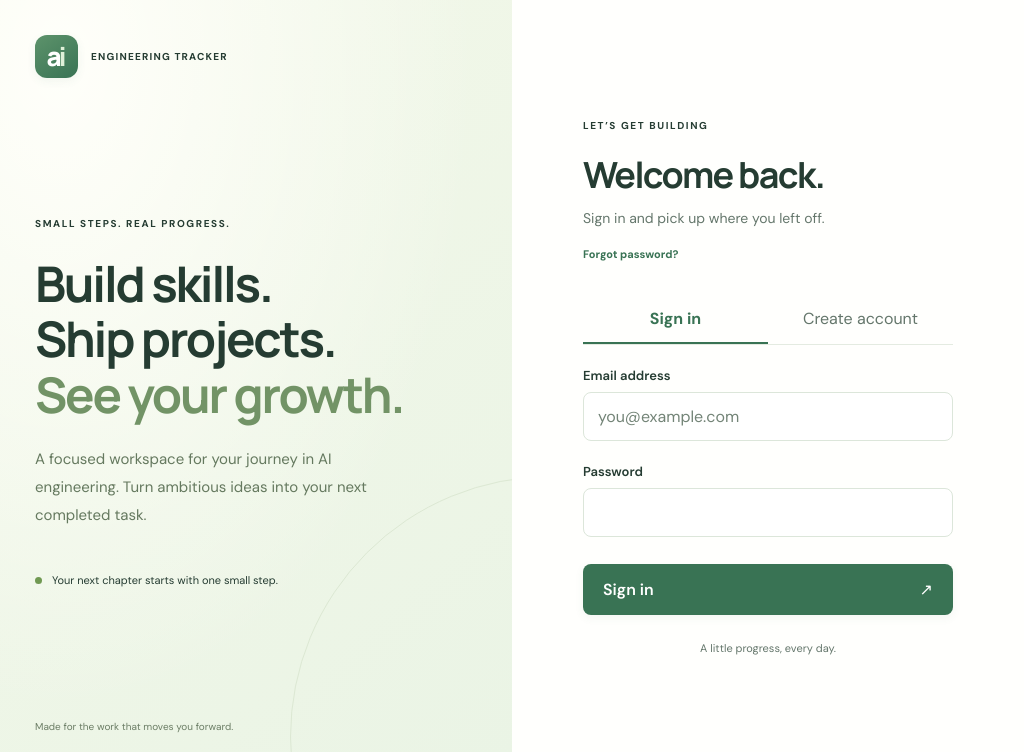
clears workspace data on sign out without storing tokens in the browser
The image size is (1024, 752).
Type "test@example.com" into the field labelled "Email address".
click(768, 416); type("test@example.com")  # box [583, 392, 953, 441]
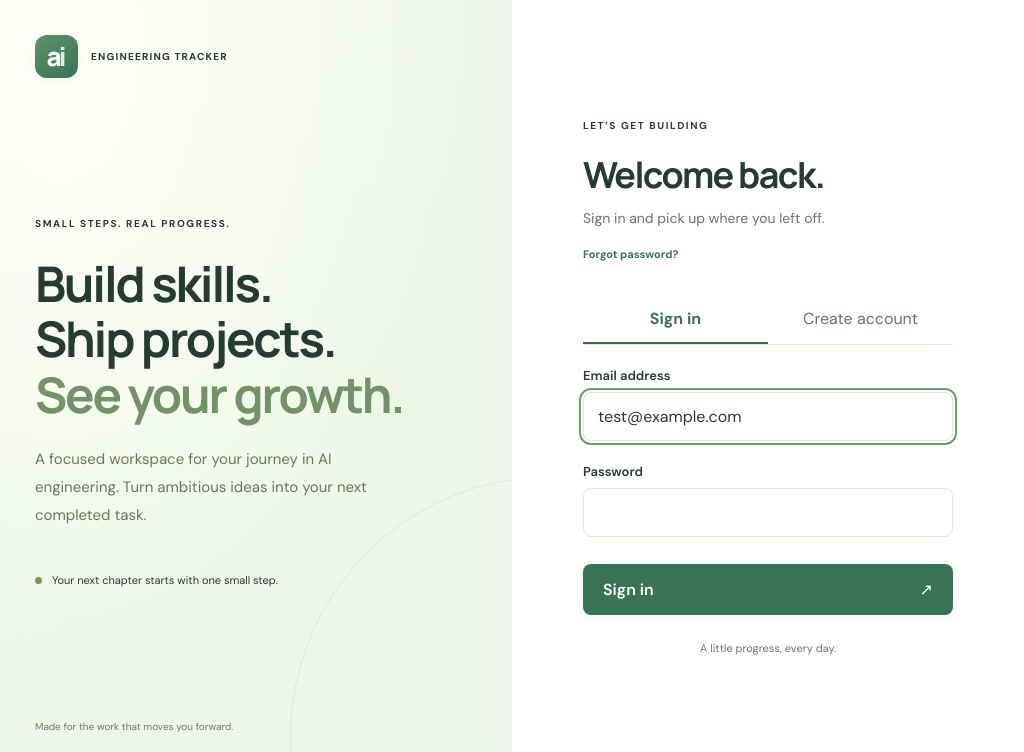
Type "test-only-long-passphrase" into the password field labelled "Password".
click(768, 512); type("test-only-long-passphrase")  # box [583, 488, 953, 537]
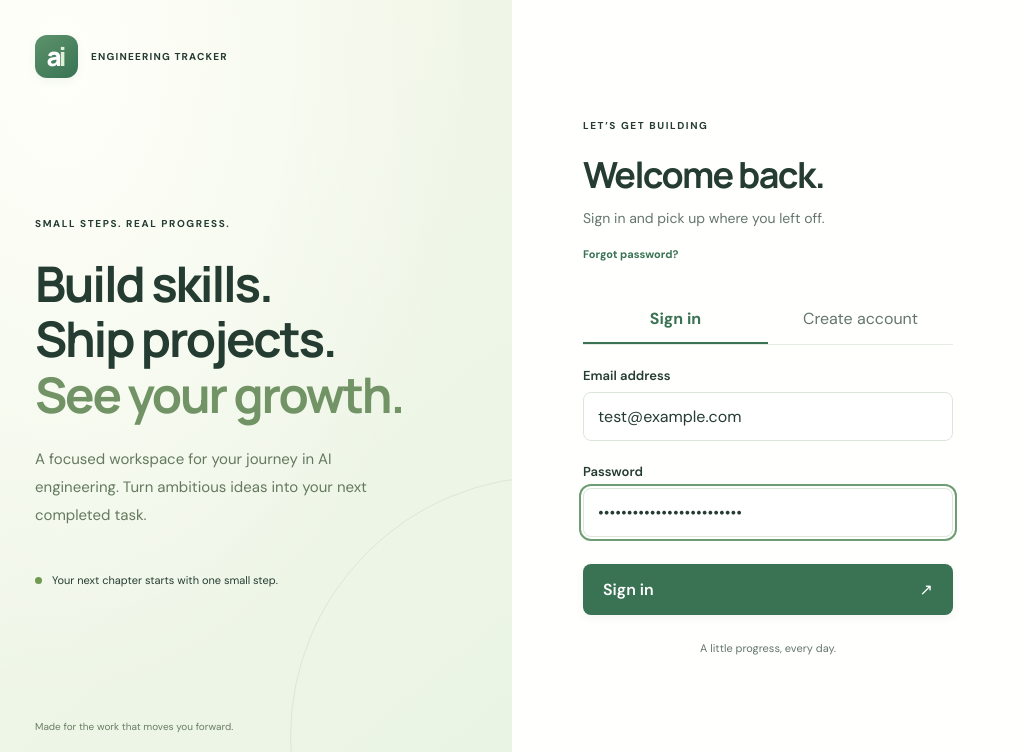
Click the button "Sign in ↗".
click(628, 590)  # box [583, 564, 953, 615]
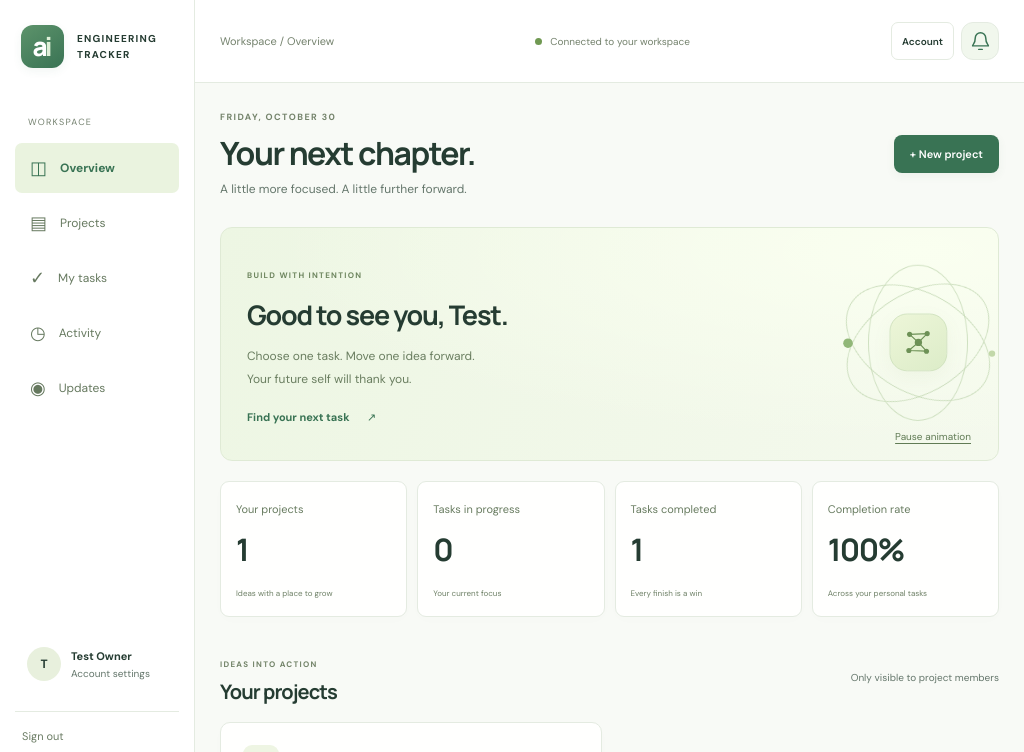
Click the button "Sign out".
click(97, 727)  # box [15, 711, 179, 743]
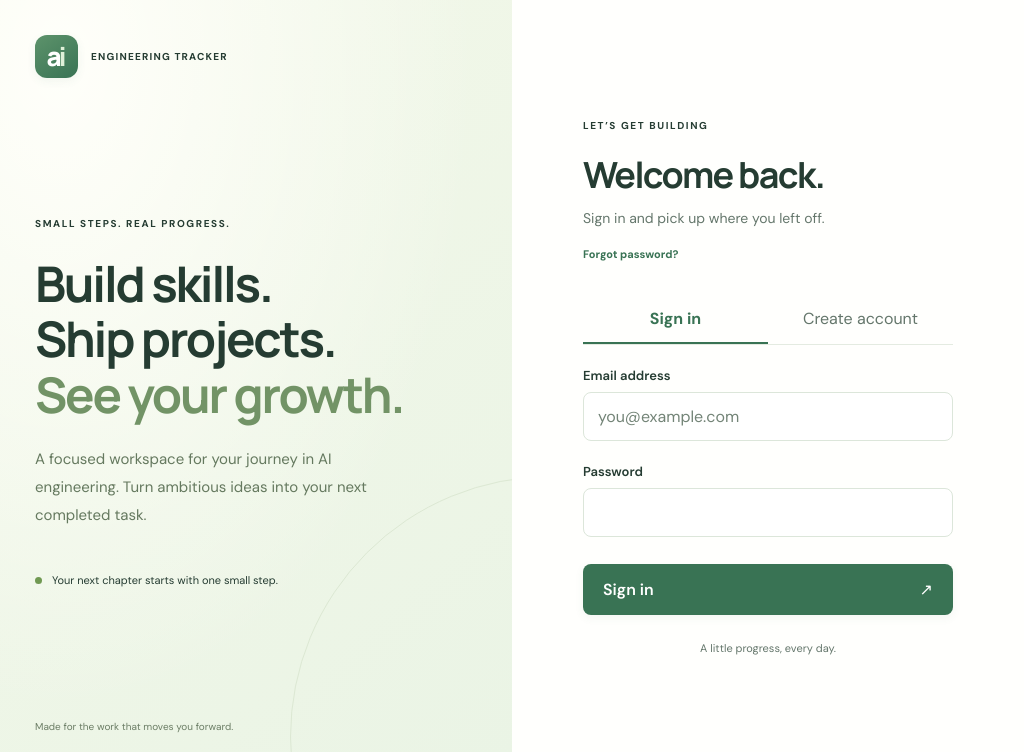
Check: the heading "Welcome back." is shown, box [583, 150, 824, 199]
